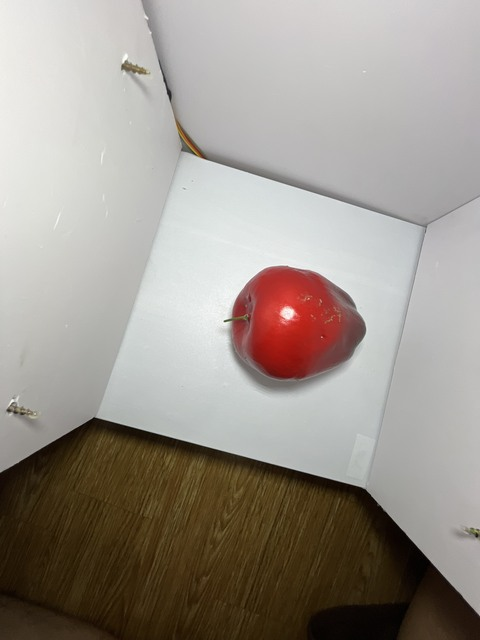Tao: (224, 258, 374, 385)
